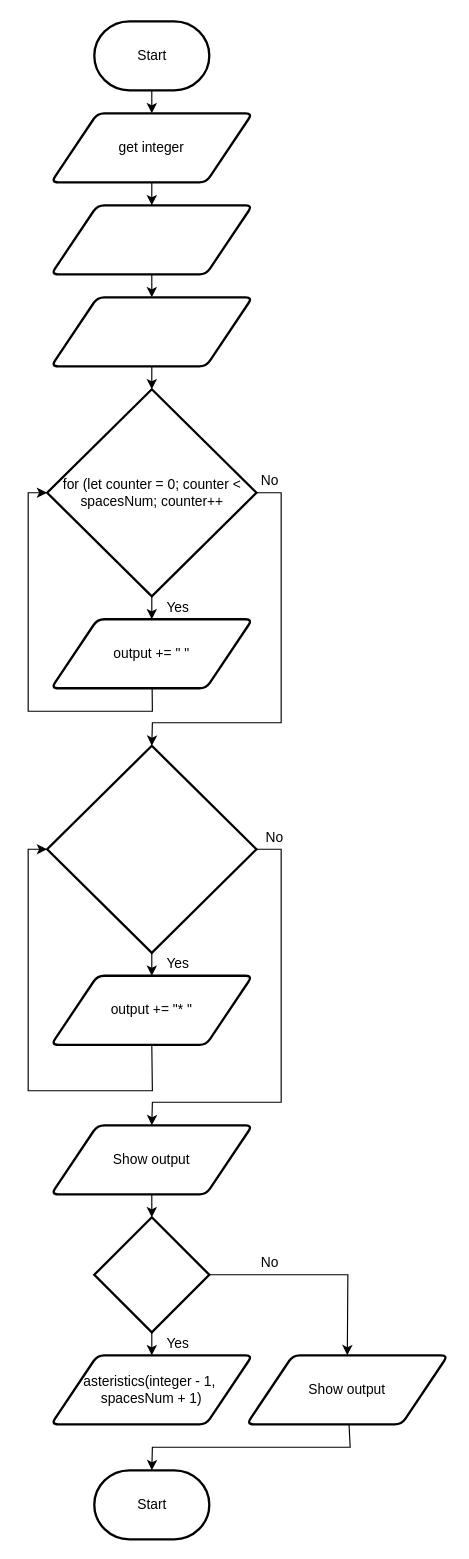
This 469x1559 diagram has some shape labels left out. Each missing label, with the centre of its shape:
for (let counter1 = 0; counter1 < integer; counter1++: the point at 151,848
get output: the point at 151,331
get spacesNum: the point at 151,239
if (integer > 1): the point at 151,1274
